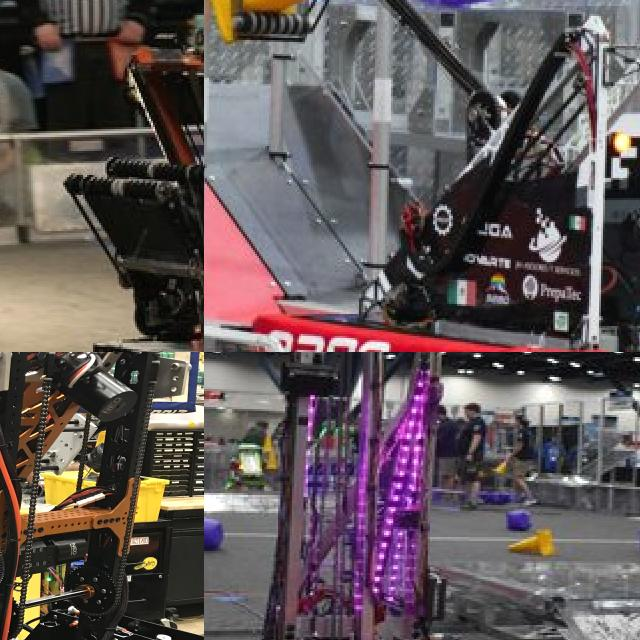FRC-Robots: (204, 0, 640, 352), (204, 352, 608, 640), (25, 11, 204, 352), (0, 352, 204, 640)
